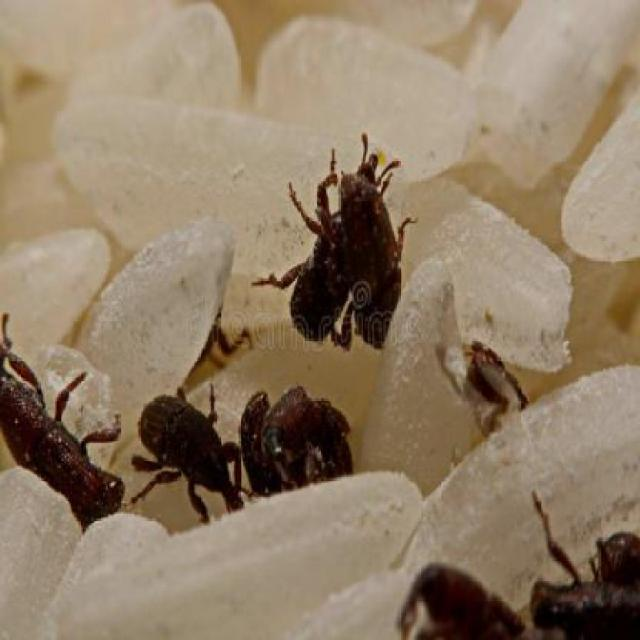rice-bug: (0, 303, 128, 535), (283, 140, 411, 345), (244, 380, 370, 508), (142, 357, 240, 518), (534, 495, 640, 640), (392, 547, 530, 640), (456, 338, 526, 417)
